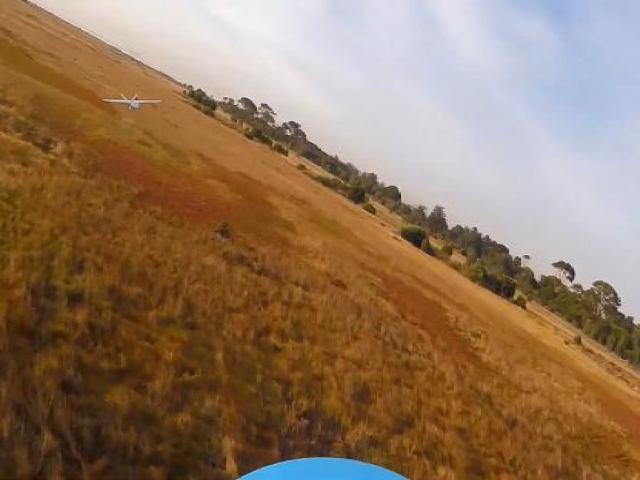uav: (99, 90, 164, 110)
